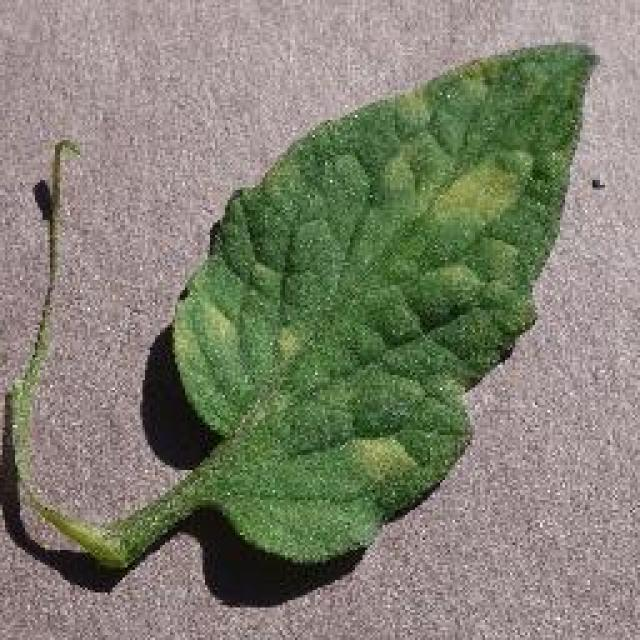Tomato___Leaf_Mold: (5, 42, 595, 568)
